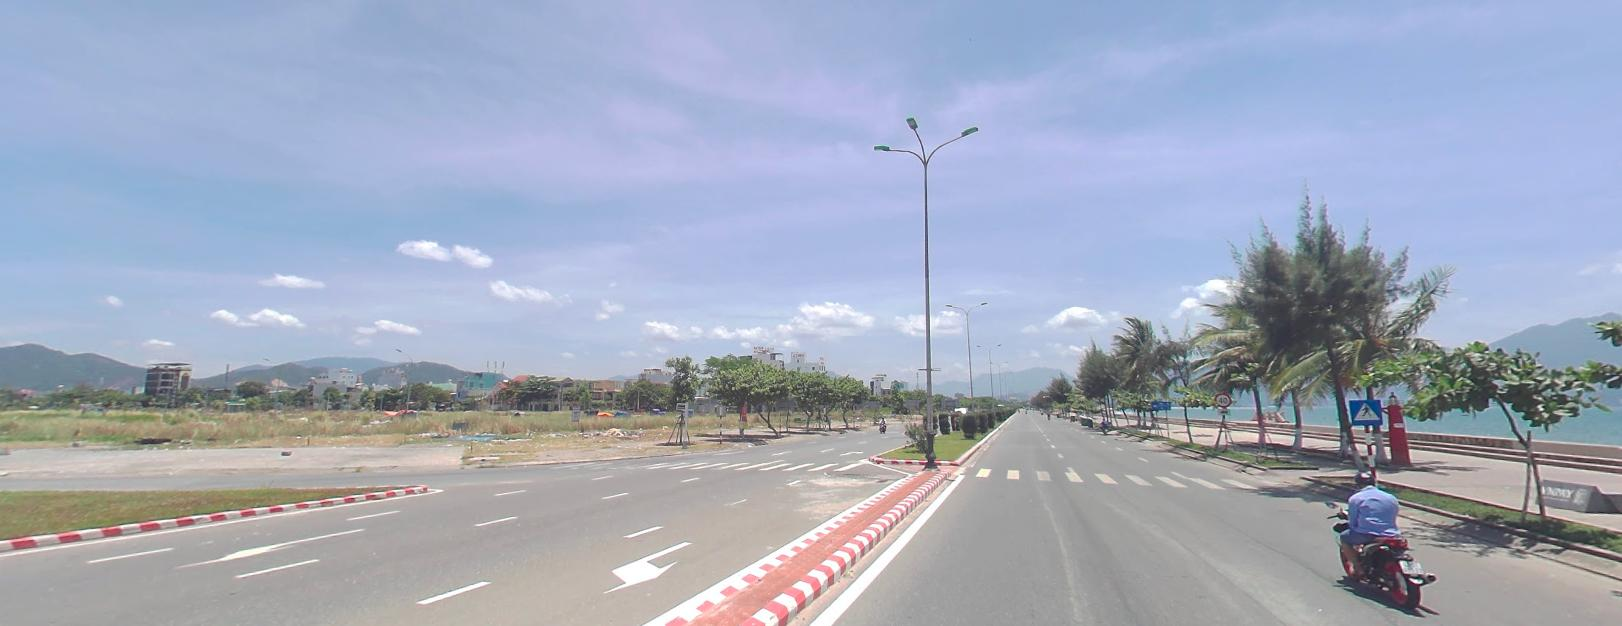Gioi han toc do: (1214, 392, 1232, 406)
